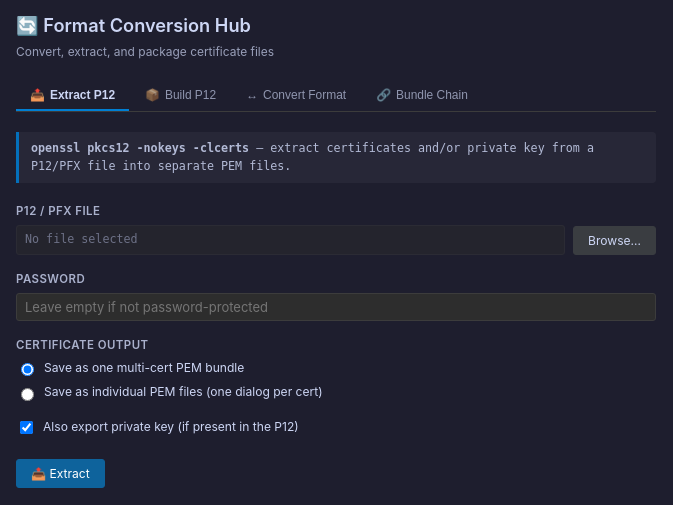
Test: ConvertHub.svelte › switches modes and renders mode-specific sections
Expected: the button "📤 Extract" is shown, [16, 459, 105, 488]
Click the text "Build P12".
click(191, 95)  # box [165, 88, 216, 102]
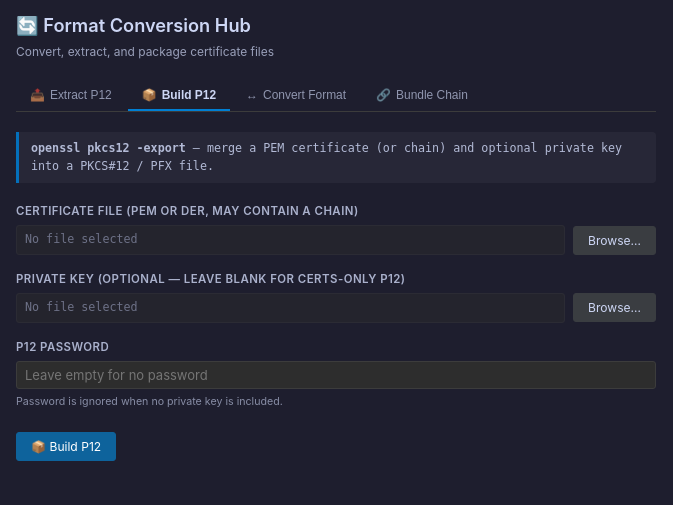
Now the button "📦 Build P12" is shown, box [16, 432, 116, 461]
Click the text "Convert Format".
click(305, 95)  # box [263, 88, 346, 102]
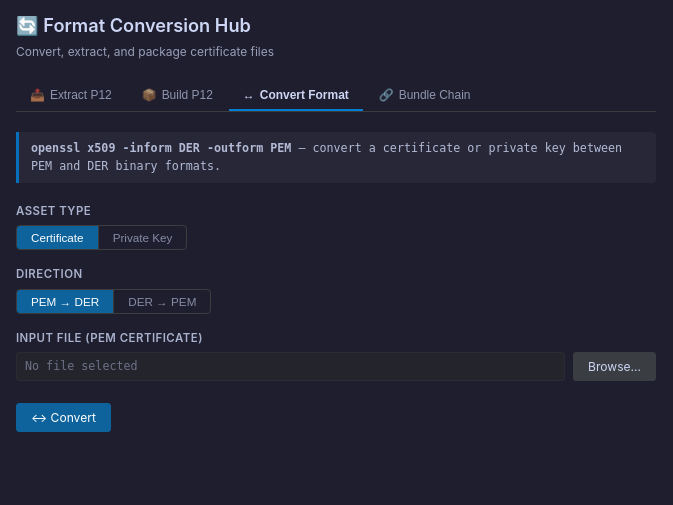
Now the button "↔ Convert" is shown, box [16, 403, 111, 432]
